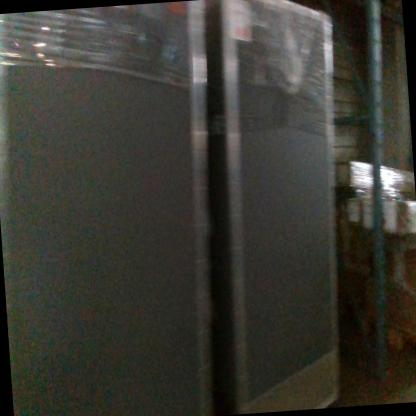pallet: (358, 310, 416, 368)
